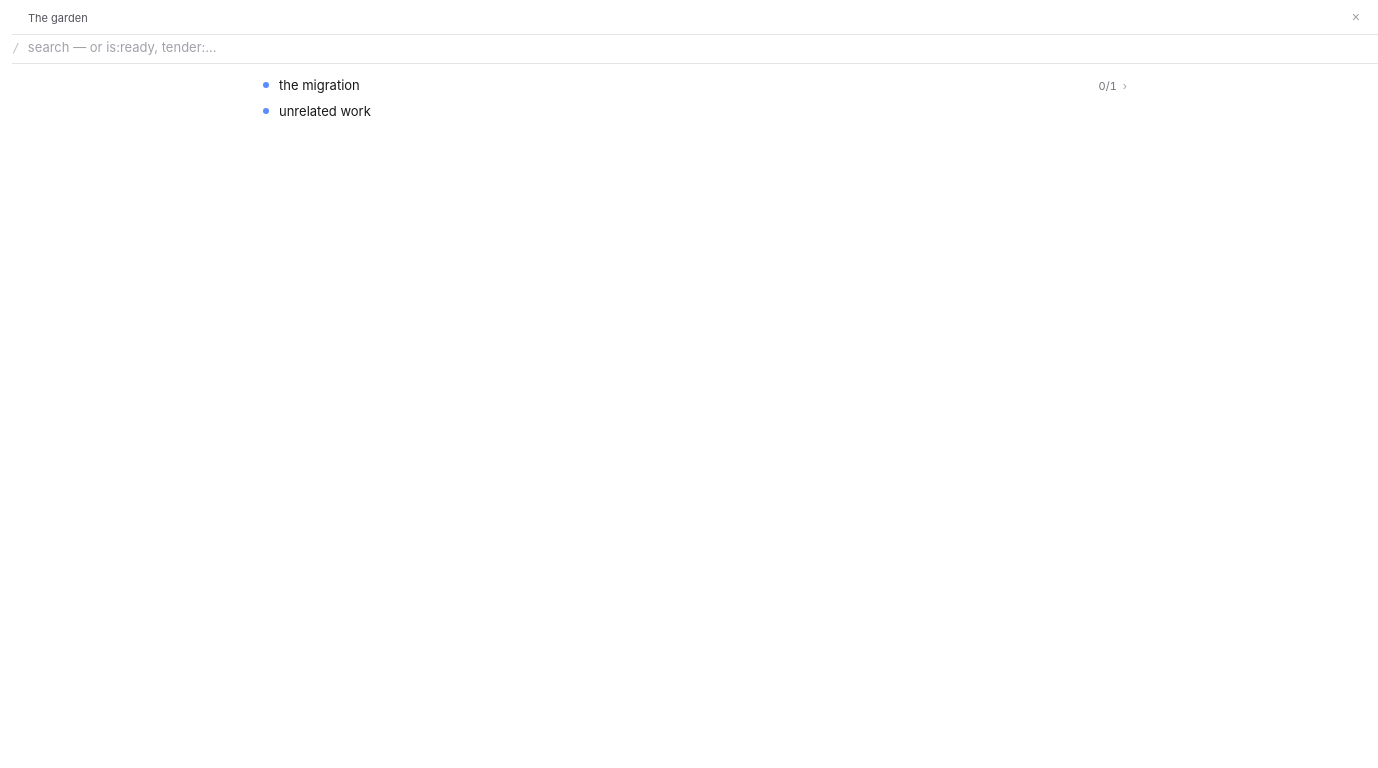
Test: GardenPanel columns › climbs one level on escape, wherever the walk is
Step 1. Click the button "the migration 0/1 ›" → {"x": 319, "y": 85}, box x1=255 y1=72 x2=1135 y2=98
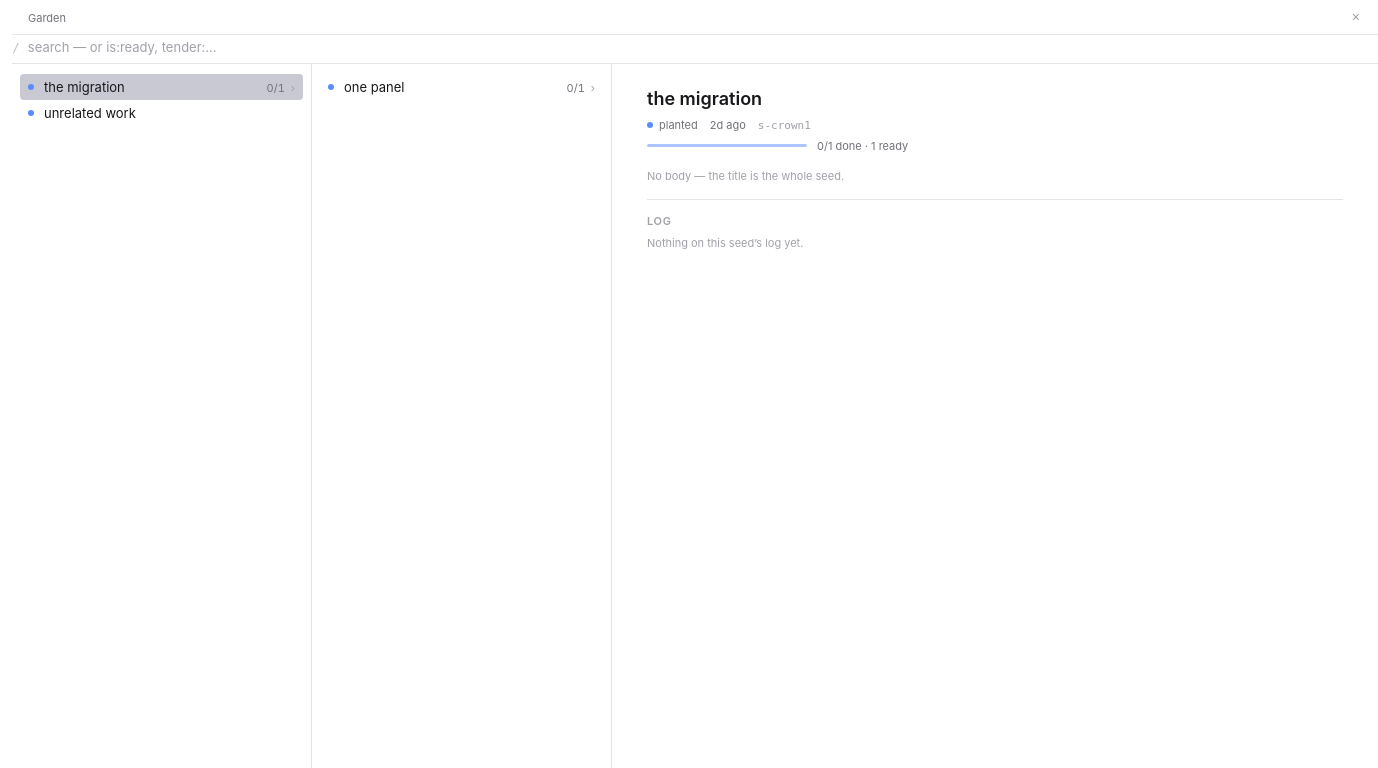
Step 2. Click the button "one panel 0/1 ›" → {"x": 374, "y": 87}, box x1=320 y1=74 x2=603 y2=100
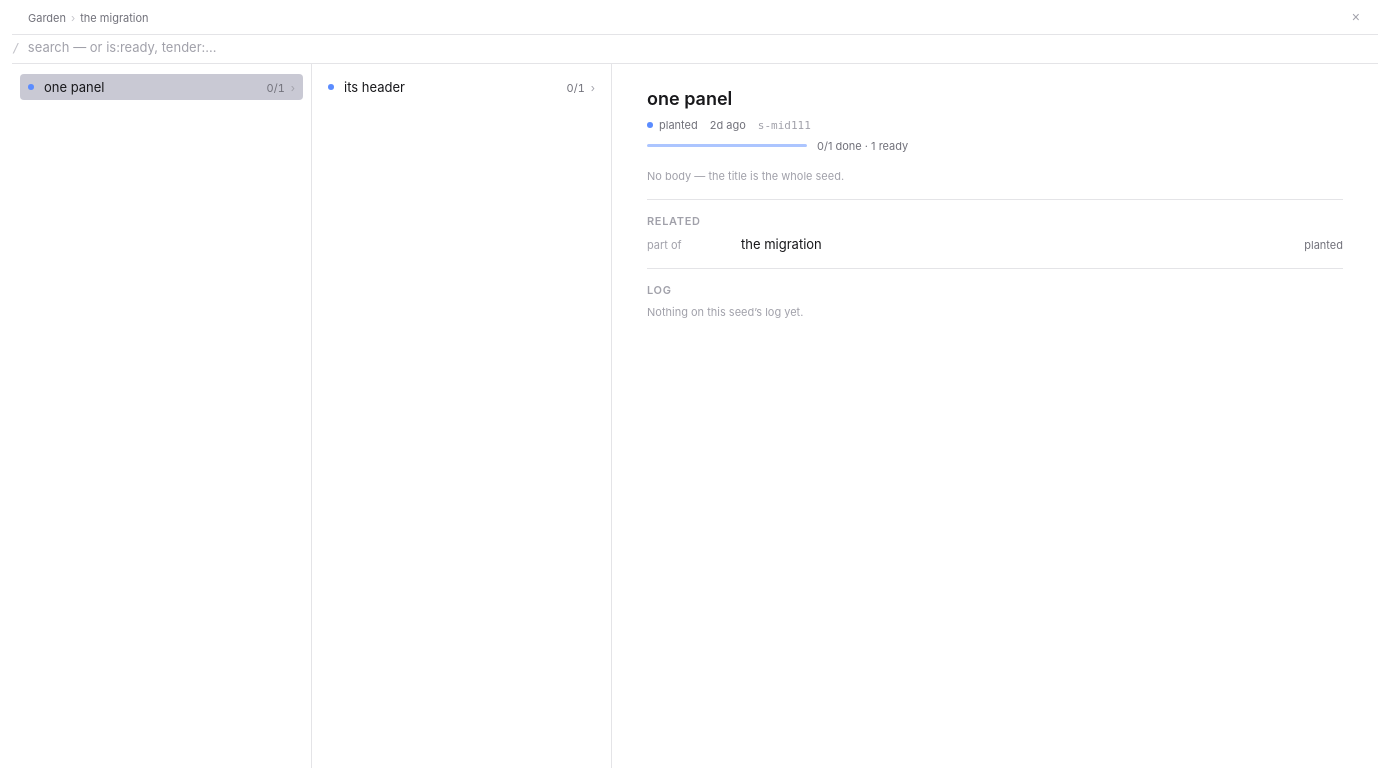
expect the heading "one panel" is shown: met, box x1=647 y1=88 x2=732 y2=109
Step 3. Press Escape
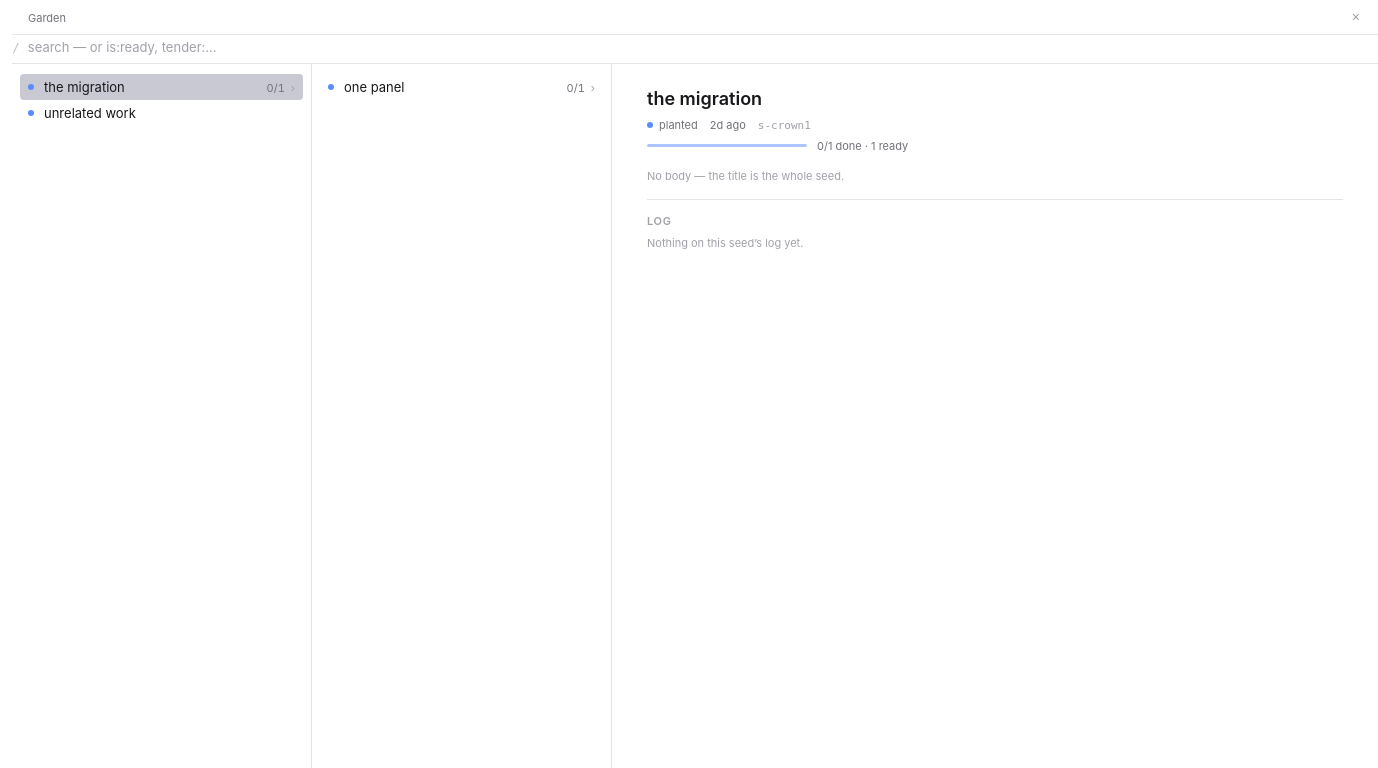
expect the heading "the migration" is shown: met, box x1=647 y1=88 x2=762 y2=109
